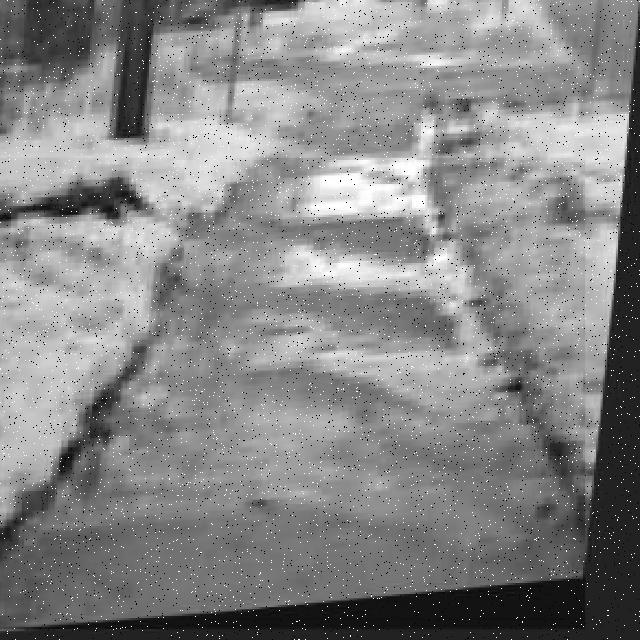ice-road: (0, 159, 585, 629)
